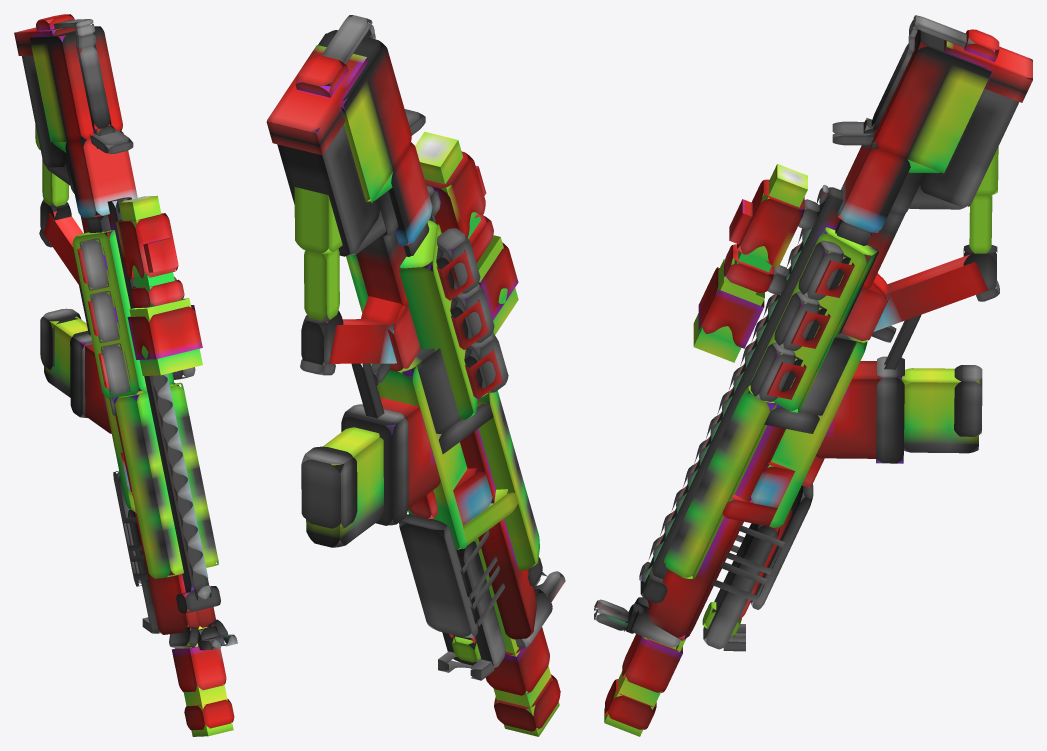
The model's file is S5_gun.fbx.
3 renders of one model, left to right at view 1: azimuth 30°, elevation 25°; view 2: azimuth 150°, elevation 25°; view 3: azimuth 270°, elevation 25°, orthographic. The views are drawn at different scales.
Parts seen in each view (by area): view 1: Gun06.001; view 2: Gun06.001; view 3: Gun06.001.
Boxes of the visible parts, box(x1,y1,x2,y2) form: Gun06.001: box(14, 14, 237, 736); Gun06.001: box(266, 15, 565, 736); Gun06.001: box(594, 15, 1032, 736).
Bounding box in the file's own units: 0.179 × 0.7044 × 1.26.
